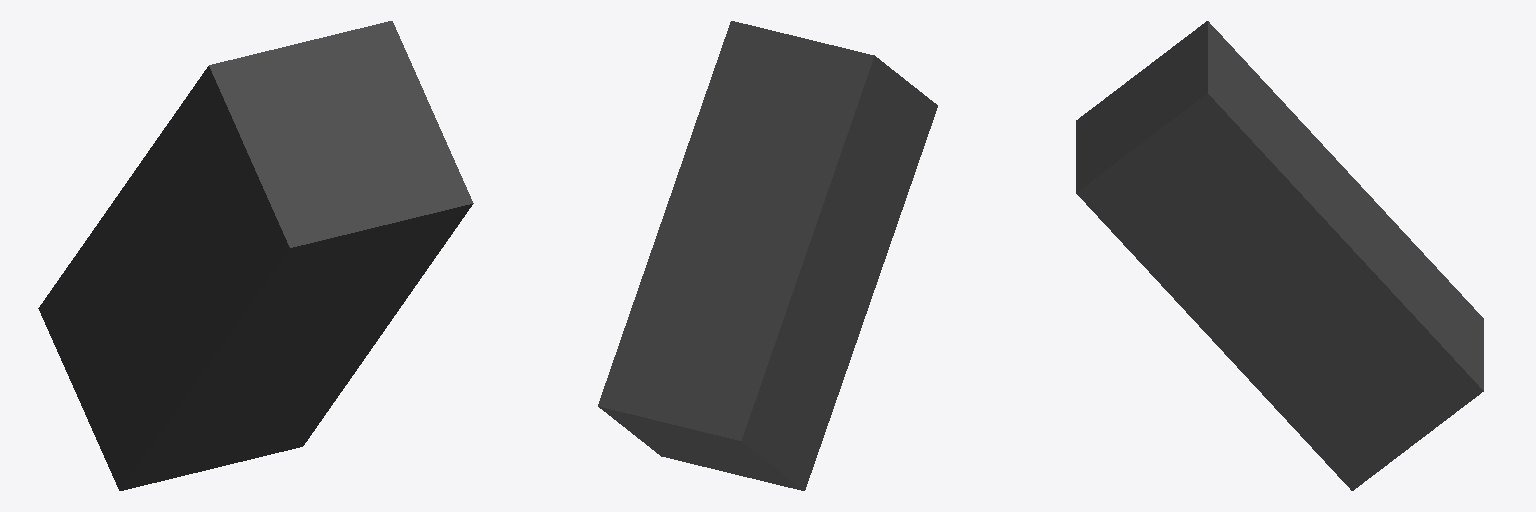
The robot description file, URDF, robot "hand_gazebo":
<?xml version="1.0" ?>
<!-- =================================================================================== -->
<!-- |    This document was autogenerated by xacro from /tmp/buildd/ros-kinetic-hsrb-description-0.18.1/robots/hsrb4s.urdf.xacro | -->
<!-- |    EDITING THIS FILE BY HAND IS NOT RECOMMENDED                                 | -->
<!-- =================================================================================== -->
<robot name="hand_gazebo" xmlns:controller="http://playerstage.sourceforge.net/gazebo/xmlschema/#controller" xmlns:interface="http://playerstage.sourceforge.net/gazebo/xmlschema/#interface" xmlns:sensor="http://playerstage.sourceforge.net/gazebo/xmlschema/#sensor" xmlns:xacro="http://ros.org/wiki/xacro">
  <material name="body_main">
    <color rgba="1.0 0.0 0.0 1.0"/>
  </material>
  <material name="body_sub">
    <color rgba="0.33 0.33 0.33 1.0"/>
  </material>
  <material name="wheel">
    <color rgba="0.2 0.2 0.2 1.0"/>
  </material>
  <material name="black">
    <color rgba="0.1 0.1 0.1 1.0"/>
  </material>
  <material name="tablet">
    <color rgba="0.1 0.1 0.2 1.0"/>
  </material>
  
  <link name="world"/>

  <joint name="world_joint" type="prismatic"> <!-- prismatic-->
    <axis xyz="0.0 0.0 1.0"/>
    <origin rpy="0.0 3.14159265359 0.0" xyz="0.0 0.0 0.3"/>
    <limit effort="100000.0" lower="-5" upper="5" velocity="1.0"/>
    <parent link="world"/>
    <child link="wrist_roll_link"/>
  </joint>

  <link name="wrist_roll_link"/>
  
  <joint name="hand_palm_joint" type="fixed">
    <origin rpy="0.0 0.0 3.14159265359" xyz="0.012 0.0 0.1405"/>
    <parent link="wrist_roll_link"/>
    <child link="hand_palm_link"/>
  </joint>
  <link name="hand_palm_link">
    <inertial>
      <mass value="0.15"/>
      <inertia ixx="0.015" ixy="0.0" ixz="0.0" iyy="0.015" iyz="0.0" izz="0.015"/>
    </inertial>
    <visual>
      <geometry>
        <mesh filename="package://hsrb_description/meshes/hand_v0/palm_light.dae"/>
      </geometry>
    </visual>
    <collision>
      <geometry>
        <mesh filename="package://hsrb_description/meshes/hand_v0/palm.stl"/>
      </geometry>
    </collision>
  </link>
  <joint name="hand_motor_joint" type="revolute">
    <axis xyz="1.0 0.0 0.0"/>
    <limit effort="100.0" lower="-0.798" upper="1.24" velocity="1.0"/>
    <parent link="hand_palm_link"/>
    <child link="hand_motor_dummy_link"/>
    <dynamics damping="0.0001"/>
  </joint>
  <link name="hand_motor_dummy_link">
    <inertial>
      <mass value="0.01"/>
      <inertia ixx="0.0015" ixy="0.0" ixz="0.0" iyy="0.0015" iyz="0.0" izz="0.0015"/>
    </inertial>
  </link>
  <joint name="hand_l_proximal_joint" type="revolute">
    <origin rpy="0.0 0.0 0.0" xyz="-0.01675 -0.0245 -0.0175"/>
    <axis xyz="1.0 0.0 0.0"/>
    <limit effort="100.0" lower="-0.798" upper="1.24" velocity="1.0"/>
    <parent link="hand_palm_link"/>
    <child link="hand_l_proximal_link"/>
    <mimic joint="hand_motor_joint"/>
    <dynamics damping="0.0001"/>
  </joint>
  <link name="hand_l_proximal_link">
    <inertial>
      <mass value="0.01"/>
      <inertia ixx="0.0015" ixy="0.0" ixz="0.0" iyy="0.0015" iyz="0.0" izz="0.0015"/>
    </inertial>
  </link>
  <joint name="hand_l_spring_proximal_joint" type="revolute">
    <axis xyz="1.0 0.0 0.0"/>
    <limit effort="10.0" lower="0.0" upper="0.698" velocity="1.0"/>
    <parent link="hand_l_proximal_link"/>
    <child link="hand_l_spring_proximal_link"/>
    <dynamics damping="0.0001"/>
  </joint>
  <link name="hand_l_spring_proximal_link">
    <inertial>
      <mass value="0.043589"/>
      <origin xyz="0.021418 0.00248 0.022688"/>
      <inertia ixx="0.000026033886" ixy="-0.000000144078" ixz="-0.00000198241" iyy="0.000028824811" iyz="-0.000001268421" izz="0.000005135919"/>
    </inertial>
    <visual>
      <geometry>
        <mesh filename="package://hsrb_description/meshes/hand_v0/l_proximal.dae"/>
      </geometry>
    </visual>
    <collision>
      <geometry>
        <mesh filename="package://hsrb_description/meshes/hand_v0/l_proximal.stl"/>
      </geometry>
    </collision>
  </link>
  <joint name="hand_l_mimic_distal_joint" type="revolute">
    <origin xyz="0.0 0.0 0.07"/>
    <axis xyz="1.0 0.0 0.0"/>
    <limit effort="100.0" lower="-0.698" upper="-0.0" velocity="1.0"/>
    <parent link="hand_l_spring_proximal_link"/>
    <child link="hand_l_mimic_distal_link"/>
    <mimic joint="hand_l_spring_proximal_joint" multiplier="-1.0"/>
    <dynamics damping="0.0001"/>
  </joint>
  <link name="hand_l_mimic_distal_link">
    <inertial>
      <mass value="0.01"/>
      <inertia ixx="0.0015" ixy="0.0" ixz="0.0" iyy="0.0015" iyz="0.0" izz="0.0015"/>
    </inertial>
  </link>
  <joint name="hand_l_distal_joint" type="revolute">
    <axis xyz="1.0 0.0 0.0"/>
    <limit effort="100.0" lower="-1.24" upper="0.798" velocity="1.0"/>
    <parent link="hand_l_mimic_distal_link"/>
    <child link="hand_l_distal_link"/>
    <mimic joint="hand_motor_joint" multiplier="-1.0" offset="-0.087"/>
    <dynamics damping="0.0001"/>
  </joint>
  <link name="hand_l_distal_link">
    <inertial>
      <mass value="0.027731"/>
      <origin xyz="0.011116 0.005679 0.017532"/>
      <inertia ixx="0.000004451952" ixy="-0.000000617574" ixz="0.000000503765" iyy="0.000000503765" iyz="-0.000000435048" izz="0.000004456764"/>
    </inertial>
    <visual>
      <geometry>
        <mesh filename="package://hsrb_description/meshes/hand_v0/l_distal.dae"/>
      </geometry>
    </visual>
    <collision>
      <geometry>
        <mesh filename="package://hsrb_description/meshes/hand_v0/l_distal.stl"/>
      </geometry>
    </collision>
  </link>
  <joint name="hand_l_finger_tip_frame_joint" type="fixed">
    <origin rpy="-1.57079632679 0.0 0.0" xyz="0.01675 0.01865 0.04289"/>
    <parent link="hand_l_distal_link"/>
    <child link="hand_l_finger_tip_frame"/>
    <dynamics damping="0.0001"/>
  </joint>
  <link name="hand_l_finger_tip_frame">
    <inertial>
      <mass value="0.01"/>
      <inertia ixx="0.0015" ixy="0.0" ixz="0.0" iyy="0.0015" iyz="0.0" izz="0.0015"/>
    </inertial>
  </link>
  <joint name="hand_l_finger_vacuum_frame_joint" type="fixed">
    <origin rpy="0.785398163397 0.0 0.0" xyz="0.00475 -0.011539 0.03322"/>
    <parent link="hand_l_distal_link"/>
    <child link="hand_l_finger_vacuum_frame"/>
  </joint>
  <link name="hand_l_finger_vacuum_frame">
    <inertial>
      <mass value="0.01"/>
      <inertia ixx="0.0015" ixy="0.0" ixz="0.0" iyy="0.0015" iyz="0.0" izz="0.0015"/>
    </inertial>
    <visual>
      <origin rpy="0.0 0.0 0.0" xyz="0.0 0.0 -0.01"/>
      <geometry>
        <box size="0.008 0.008 0.02"/>
      </geometry>
      <material name="body_sub"/>
    </visual>
  </link>
  <joint name="hand_r_proximal_joint" type="revolute">
    <origin rpy="0.0 0.0 0.0" xyz="-0.01675 0.0245 -0.0175"/>
    <axis xyz="-1.0 0.0 0.0"/>
    <limit effort="100.0" lower="-0.798" upper="1.24" velocity="1.0"/>
    <parent link="hand_palm_link"/>
    <child link="hand_r_proximal_link"/>
    <mimic joint="hand_motor_joint"/>
    <dynamics damping="0.0001"/>
  </joint>
  <link name="hand_r_proximal_link">
    <inertial>
      <mass value="0.01"/>
      <inertia ixx="0.0015" ixy="0.0" ixz="0.0" iyy="0.0015" iyz="0.0" izz="0.0015"/>
    </inertial>
  </link>
  <joint name="hand_r_spring_proximal_joint" type="revolute">
    <axis xyz="-1.0 0.0 0.0"/>
    <limit effort="10.0" lower="0.0" upper="0.698" velocity="1.0"/>
    <parent link="hand_r_proximal_link"/>
    <child link="hand_r_spring_proximal_link"/>
    <dynamics damping="0.0001"/>
  </joint>
  <link name="hand_r_spring_proximal_link">
    <inertial>
      <mass value="0.043956"/>
      <origin xyz="0.013203 0.002096 0.023311"/>
      <inertia ixx="0.00002623664" ixy="0.00000001631" ixz="0.000001281845" iyy="0.000028838232" iyz="-0.000001621709" izz="0.000004957151"/>
    </inertial>
    <visual>
      <geometry>
        <mesh filename="package://hsrb_description/meshes/hand_v0/r_proximal.dae"/>
      </geometry>
    </visual>
    <collision>
      <geometry>
        <mesh filename="package://hsrb_description/meshes/hand_v0/r_proximal.stl"/>
      </geometry>
    </collision>
  </link>
  <joint name="hand_r_mimic_distal_joint" type="revolute">
    <origin xyz="0.0 0.0 0.07"/>
    <axis xyz="-1.0 0.0 0.0"/>
    <limit effort="100.0" lower="-0.698" upper="-0.0" velocity="1.0"/>
    <parent link="hand_r_spring_proximal_link"/>
    <child link="hand_r_mimic_distal_link"/>
    <mimic joint="hand_r_spring_proximal_joint" multiplier="-1.0"/>
    <dynamics damping="0.0001"/>
  </joint>
  <link name="hand_r_mimic_distal_link">
    <inertial>
      <mass value="0.01"/>
      <inertia ixx="0.0015" ixy="0.0" ixz="0.0" iyy="0.0015" iyz="0.0" izz="0.0015"/>
    </inertial>
  </link>
  <joint name="hand_r_distal_joint" type="revolute">
    <axis xyz="-1.0 0.0 0.0"/>
    <limit effort="100.0" lower="-1.24" upper="0.798" velocity="1.0"/>
    <parent link="hand_r_mimic_distal_link"/>
    <child link="hand_r_distal_link"/>
    <mimic joint="hand_motor_joint" multiplier="-1.0" offset="-0.087"/>
    <dynamics damping="0.0001"/>
  </joint>
  <link name="hand_r_distal_link">
    <inertial>
      <mass value="0.020927"/>
      <origin xyz="0.014256 -0.008321 0.015591"/>
      <inertia ixx="0.00000307518" ixy="-0.00000004954" ixz="0.000000009481" iyy="0.000004074079" iyz="0.000000843648" izz="0.000002807795"/>
    </inertial>
    <visual>
      <geometry>
        <mesh filename="package://hsrb_description/meshes/hand_v0/r_distal.dae"/>
      </geometry>
    </visual>
    <collision>
      <geometry>
        <mesh filename="package://hsrb_description/meshes/hand_v0/r_distal.stl"/>
      </geometry>
    </collision>
  </link>
  <joint name="hand_r_finger_tip_frame_joint" type="fixed">
    <origin rpy="1.57079632679 0.0 0.0" xyz="0.01675 -0.01865 0.04289"/>
    <parent link="hand_r_distal_link"/>
    <child link="hand_r_finger_tip_frame"/>
  </joint>
  <link name="hand_r_finger_tip_frame">
    <inertial>
      <mass value="0.01"/>
      <inertia ixx="0.0015" ixy="0.0" ixz="0.0" iyy="0.0015" iyz="0.0" izz="0.0015"/>
    </inertial>
  </link>


  <gazebo reference="wrist_roll_link">
    <selfCollide>false</selfCollide>
    <gravity>false</gravity>
    <mu1>0.9</mu1>
    <mu2>0.9</mu2>
  </gazebo>
  
  <gazebo reference="hand_palm_link">
    <selfCollide>false</selfCollide>
    <gravity>true</gravity>
    <mu1>0.9</mu1>
    <mu2>0.9</mu2>
  </gazebo>
  
  <gazebo reference="hand_l_proximal_link">
    <selfCollide>false</selfCollide>
    <gravity>true</gravity>
    <mu1>1.0</mu1>
    <mu2>1.0</mu2>
  </gazebo>
  <gazebo reference="hand_l_spring_proximal_link">
    <selfCollide>false</selfCollide>
    <gravity>true</gravity>
    <mu1>1.0</mu1>
    <mu2>1.0</mu2>
  </gazebo>
  <gazebo reference="hand_l_mimic_distal_link">
    <selfCollide>false</selfCollide>
    <gravity>true</gravity>
    <mu1>1.0</mu1>
    <mu2>1.0</mu2>
  </gazebo>
  <gazebo reference="hand_l_distal_link">
    <selfCollide>false</selfCollide>
    <gravity>true</gravity>
    <mu1>1.0</mu1>
    <mu2>1.0</mu2>
  </gazebo>
  <gazebo reference="hand_l_finger_tip_frame">
    <selfCollide>false</selfCollide>
    <gravity>false</gravity>
    <mu1>1.0</mu1>
    <mu2>1.0</mu2>
  </gazebo>
  <gazebo reference="hand_l_finger_vacuum_frame">
    <selfCollide>false</selfCollide>
    <gravity>false</gravity>
    <mu1>1.0</mu1>
    <mu2>1.0</mu2>
  </gazebo>
  <gazebo reference="hand_r_proximal_link">
    <selfCollide>false</selfCollide>
    <gravity>true</gravity>
    <mu1>1.0</mu1>
    <mu2>1.0</mu2>
  </gazebo>
  <gazebo reference="hand_r_spring_proximal_link">
    <selfCollide>false</selfCollide>
    <gravity>true</gravity>
    <mu1>1.0</mu1>
    <mu2>1.0</mu2>
  </gazebo>
  <gazebo reference="hand_r_mimic_distal_link">
    <selfCollide>false</selfCollide>
    <gravity>true</gravity>
    <mu1>1.0</mu1>
    <mu2>1.0</mu2>
  </gazebo>
  <gazebo reference="hand_r_distal_link">
    <selfCollide>false</selfCollide>
    <gravity>false</gravity>
    <mu1>1.0</mu1>
    <mu2>1.0</mu2>
  </gazebo>
  <gazebo reference="hand_r_finger_tip_frame">
    <selfCollide>false</selfCollide>
    <gravity>false</gravity>
    <mu1>1.0</mu1>
    <mu2>1.0</mu2>
  </gazebo>
  
  <gazebo reference="hand_palm_joint">
  </gazebo>
  <gazebo reference="hand_motor_joint">
  </gazebo>
  <gazebo reference="hand_l_proximal_joint">
  </gazebo>
  <gazebo reference="hand_l_spring_proximal_joint">
  </gazebo>
  <gazebo reference="hand_l_mimic_distal_joint">
  </gazebo>
  <gazebo reference="hand_l_distal_joint">
  </gazebo>
  <gazebo reference="hand_r_proximal_joint">
  </gazebo>
  <gazebo reference="hand_r_spring_proximal_joint">
  </gazebo>
  <gazebo reference="hand_r_mimic_distal_joint">
  </gazebo>
  <gazebo reference="hand_r_distal_joint">
  </gazebo>
  <gazebo reference="hand_r_distal_joint">
  </gazebo>
  <gazebo reference="world_joint">
  </gazebo>
  

  <gazebo>
    <plugin filename="libtmc_gazebo_hrh_gripper.so" name="hsrb_hrh_gripper_plugin">
      <sensitiveness>0.05</sensitiveness>
      <update_rate>1000.0</update_rate>
      <max_torque>8.0</max_torque>
      <!-- 5[deg] -->
      <error_tolerance>0.0872</error_tolerance>
      <stall_timeout>2.0</stall_timeout>
    </plugin>    
    <plugin filename="libhsrb_grasp_hack.so" name="hsrb_grasp_hack_plugin">
      <grasp_check>
        <attach_steps>1</attach_steps>
        <detach_steps>2</detach_steps>
        <min_contact_count>1</min_contact_count>
        <max_attach_weight>1.2</max_attach_weight>
      </grasp_check>
      <gripper_link>hand_r_distal_link</gripper_link>
      <gripper_link>hand_l_distal_link</gripper_link>
      <gripper_link>hand_r_spring_proximal_link</gripper_link>
      <gripper_link>hand_l_spring_proximal_link</gripper_link>
      <!-- hand_palm_link is merged with wrist_ft_sensor_frame by fixed joint  -->
      <palm_link>wrist_roll_link</palm_link>
    </plugin>
  </gazebo>
  
  <transmission name="world_joint_transmission">
    <type>transmission_interface/SimpleTransmission</type>
    <joint name="world_joint">
      <hardwareInterface>hardware_interface/EffortJointInterface</hardwareInterface>
    </joint>
    <actuator name="world_joint_actuator">
      <hardwareInterface>hardware_interface/EffortJointInterface</hardwareInterface>
      <mechanicalReduction>1</mechanicalReduction>
    </actuator>
  </transmission>

 <transmission name="hand_l_joint_transmission">
    <type>transmission_interface/SimpleTransmission</type>
    <joint name="hand_l_proximal_joint">
      <hardwareInterface>hardware_interface/EffortJointInterface</hardwareInterface>
    </joint>
    <actuator name="hand_l_proximal_joint_actuator">
      <hardwareInterface>hardware_interface/EffortJointInterface</hardwareInterface>
      <mechanicalReduction>1</mechanicalReduction>
    </actuator>
  </transmission>
 <transmission name="hand_r_joint_transmission">
    <type>transmission_interface/SimpleTransmission</type>
    <joint name="hand_r_proximal_joint">
      <hardwareInterface>hardware_interface/EffortJointInterface</hardwareInterface>
    </joint>
    <actuator name="hand_r_proximal_joint_actuator">
      <hardwareInterface>hardware_interface/EffortJointInterface</hardwareInterface>
      <mechanicalReduction>1</mechanicalReduction>
    </actuator>
  </transmission>

  <transmission name="hand_motor_joint_transmission">
    <type>transmission_interface/SimpleTransmission</type>
    <joint name="hand_motor_joint">
      <hardwareInterface>hardware_interface/EffortJointInterface</hardwareInterface>
    </joint>
    <actuator name="hand_motor_joint_actuator">
      <hardwareInterface>hardware_interface/EffortJointInterface</hardwareInterface>
      <mechanicalReduction>1</mechanicalReduction>
    </actuator>
  </transmission>
  <transmission name="hand_l_spring_proximal_joint_transmission">
    <type>transmission_interface/SimpleTransmission</type>
    <joint name="hand_l_spring_proximal_joint">
      <hardwareInterface>hardware_interface/EffortJointInterface</hardwareInterface>
    </joint>
    <actuator name="hand_l_spring_proximal_joint_actuator">
      <hardwareInterface>hardware_interface/EffortJointInterface</hardwareInterface>
      <mechanicalReduction>1</mechanicalReduction>
    </actuator>
  </transmission>
  <transmission name="hand_r_spring_proximal_joint_transmission">
    <type>transmission_interface/SimpleTransmission</type>
    <joint name="hand_r_spring_proximal_joint">
      <hardwareInterface>hardware_interface/EffortJointInterface</hardwareInterface>
    </joint>
    <actuator name="hand_r_spring_proximal_joint_actuator">
      <hardwareInterface>hardware_interface/EffortJointInterface</hardwareInterface>
      <mechanicalReduction>1</mechanicalReduction>
    </actuator>
  </transmission>
  <gazebo>
    <plugin name="gazebo_ros_control" filename="libhsrb_gazebo_ros_control.so">
      <robotNamespace>hand_gazebo</robotNamespace>
      <legacyModeNS>true</legacyModeNS>
    </plugin>
  </gazebo>

</robot>

--- Facts derived from the render (not from the file) ---
3 views of the same robot in one strip: view 1: azimuth 30°, elevation 25°; view 2: azimuth 150°, elevation 25°; view 3: azimuth 270°, elevation 25° (orthographic).
Robot: hand_gazebo — 15 links, 14 joints (9 revolute, 1 prismatic, 4 fixed); root link world; default pose: every joint at zero.
Visible links, largest first — view 1: hand_l_finger_vacuum_frame; view 2: hand_l_finger_vacuum_frame; view 3: hand_l_finger_vacuum_frame.
Boxes of the visible links, x1,y1,x2,y2 form: hand_l_finger_vacuum_frame: (38, 21, 473, 490); hand_l_finger_vacuum_frame: (598, 21, 937, 490); hand_l_finger_vacuum_frame: (1076, 21, 1483, 490).
Bounding box of the posed robot: 0.008 × 0.019 × 0.0205 m (x, y, z).
0 mesh visuals loaded from 5 distinct referenced files (none loaded); not drawn: 5 (reference not matched to a file when rendering).